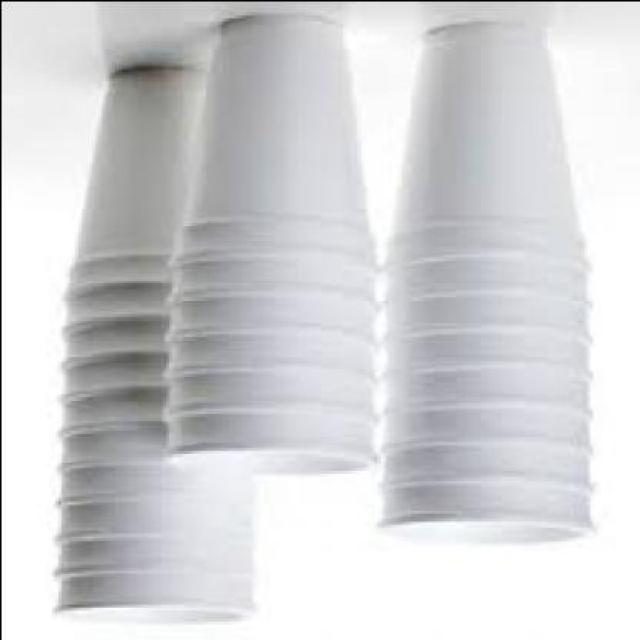PAPER: (372, 23, 592, 540), (51, 71, 251, 620), (158, 20, 358, 475), (384, 20, 581, 251), (173, 20, 367, 235), (66, 71, 222, 274)
